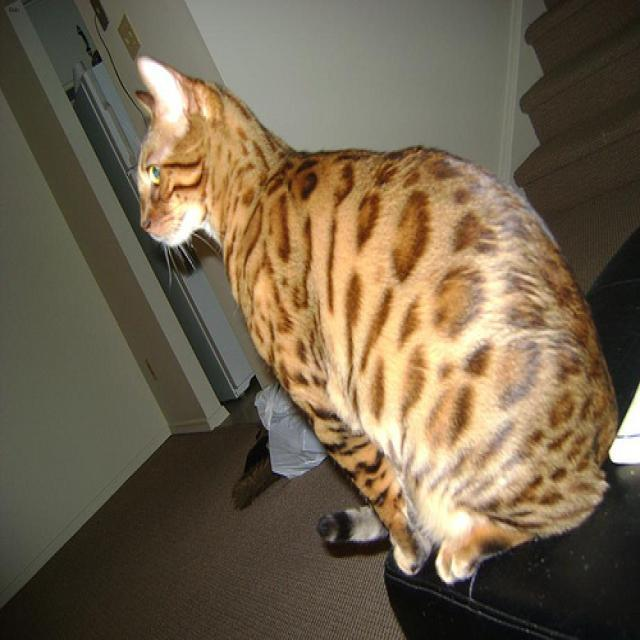Bengal: (126, 54, 279, 247)
